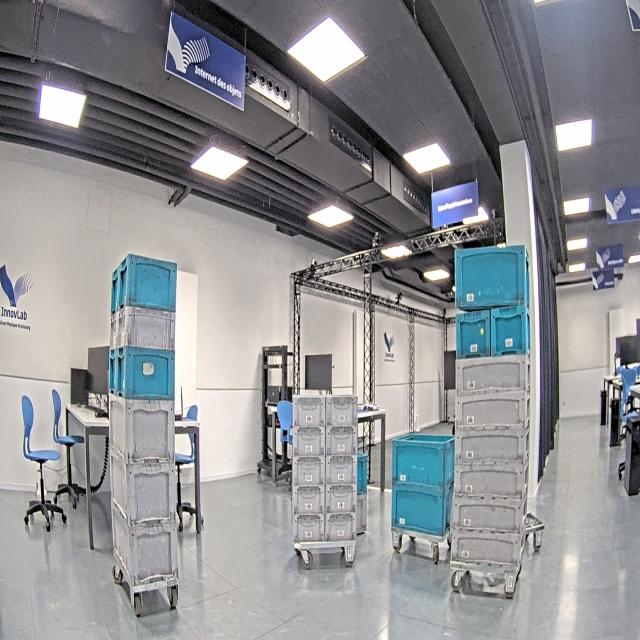Box3G: (455, 427, 531, 464), (454, 357, 532, 393), (455, 393, 530, 427), (454, 497, 528, 531), (453, 465, 530, 494), (450, 531, 526, 560)
Box4G: (111, 511, 179, 583), (107, 451, 176, 521), (109, 392, 175, 463)
Box8G: (119, 308, 175, 350), (292, 395, 326, 428), (292, 456, 326, 486), (292, 485, 326, 515), (293, 514, 325, 544), (292, 428, 325, 457), (326, 395, 358, 424), (325, 514, 357, 543), (325, 427, 358, 455), (325, 457, 358, 485), (326, 484, 358, 512), (109, 313, 119, 349)
BoxB4: (456, 248, 530, 307), (391, 482, 455, 537), (392, 433, 454, 487)
BoxB8: (121, 254, 176, 311), (118, 347, 175, 396), (455, 307, 491, 357), (492, 309, 530, 355), (108, 349, 118, 394), (110, 269, 119, 311)
